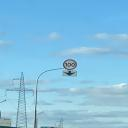speed_limit_100: (60, 58, 80, 70)
